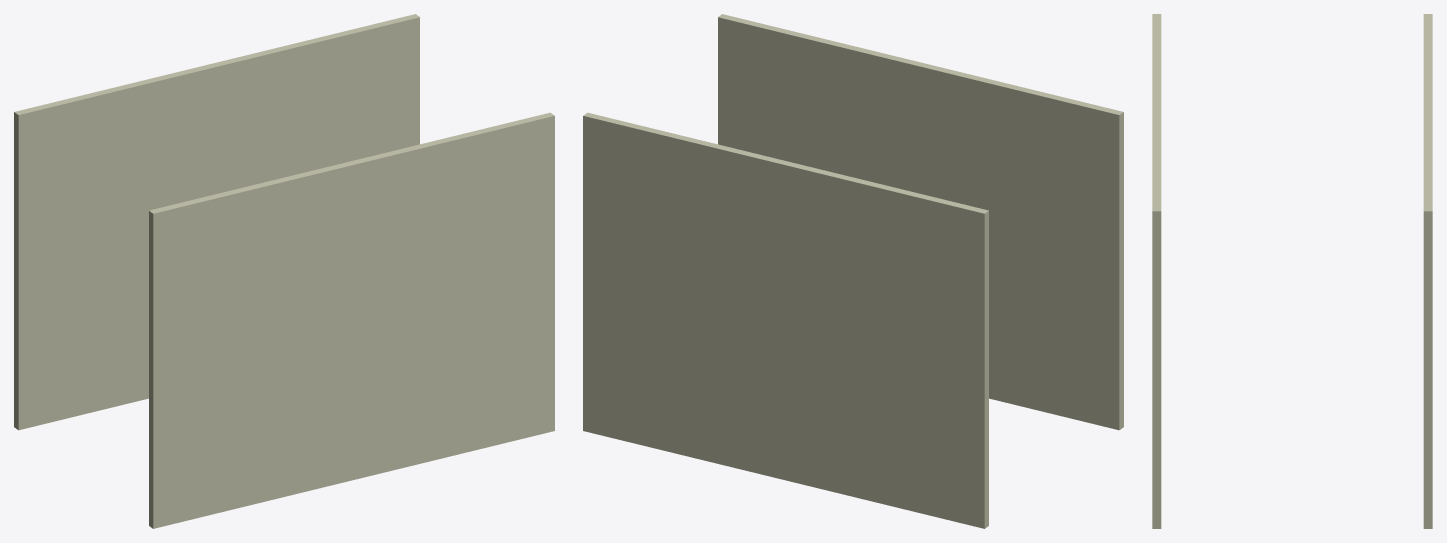
The model's file is TestGltf.glb.
3 views of the same model, side by side, from view 1: azimuth 30°, elevation 25°; view 2: azimuth 150°, elevation 25°; view 3: azimuth 270°, elevation 25° (orthographic).
Parts seen in each view (by area): view 1: {27896BFF-3C38-4ad4-A4A8-F3F7B49E4580}_Node, {FBB349FE-1430-48bb-B992-B1355307B3DF}_Node; view 2: {FBB349FE-1430-48bb-B992-B1355307B3DF}_Node, {27896BFF-3C38-4ad4-A4A8-F3F7B49E4580}_Node; view 3: {27896BFF-3C38-4ad4-A4A8-F3F7B49E4580}_Node, {FBB349FE-1430-48bb-B992-B1355307B3DF}_Node.
Boxes of the visible parts, x1,y1,x2,y2 form: {27896BFF-3C38-4ad4-A4A8-F3F7B49E4580}_Node: (149, 112, 554, 528); {FBB349FE-1430-48bb-B992-B1355307B3DF}_Node: (14, 14, 419, 430); {FBB349FE-1430-48bb-B992-B1355307B3DF}_Node: (583, 112, 988, 528); {27896BFF-3C38-4ad4-A4A8-F3F7B49E4580}_Node: (718, 14, 1123, 430); {27896BFF-3C38-4ad4-A4A8-F3F7B49E4580}_Node: (1152, 14, 1161, 528); {FBB349FE-1430-48bb-B992-B1355307B3DF}_Node: (1423, 14, 1432, 528).
Size of what is drawn, in the model's own units: 1 by 0.75 by 0.6.
